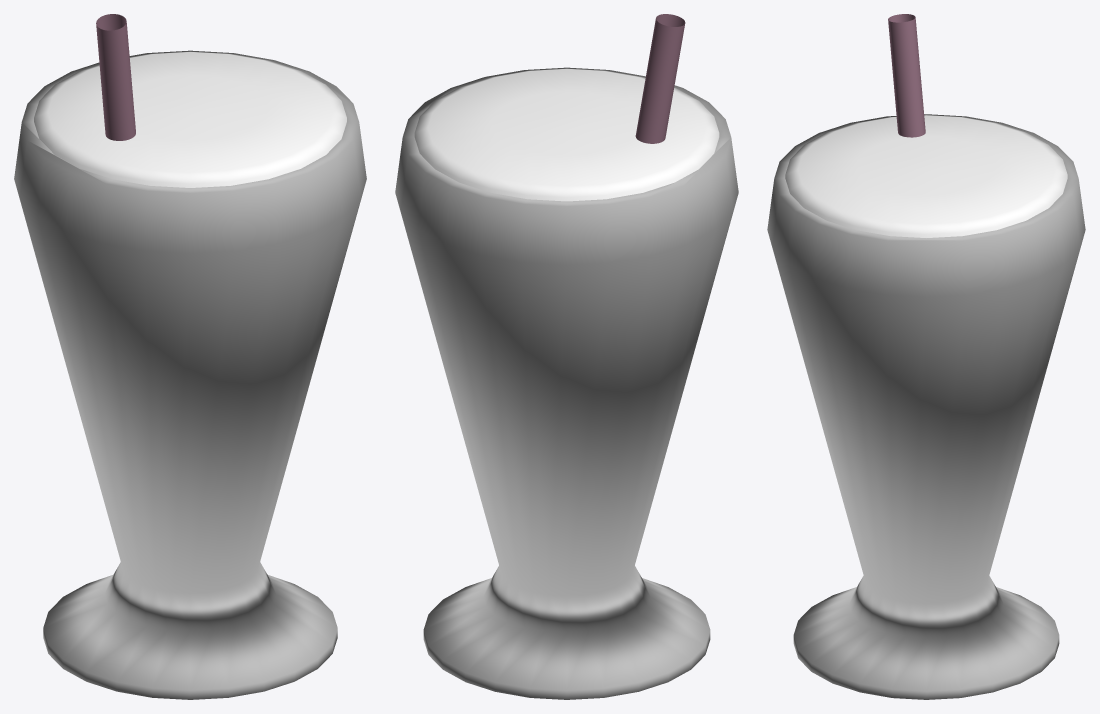
Rendered from milk_shake.fbx.
3 views of the same model, side by side, from view 1: azimuth 30°, elevation 25°; view 2: azimuth 150°, elevation 25°; view 3: azimuth 270°, elevation 25° (orthographic). The views are drawn at different scales.
Parts seen in each view (by area): view 1: milk_shake_glass, milk_shake, milk_shake_straw; view 2: milk_shake_glass, milk_shake, milk_shake_straw; view 3: milk_shake_glass, milk_shake, milk_shake_straw.
Part boxes in pixels (left/top/right/bottom): milk_shake_glass: left=14, top=50, right=366, bottom=699; milk_shake: left=34, top=51, right=346, bottom=187; milk_shake_straw: left=96, top=14, right=135, bottom=140; milk_shake_glass: left=395, top=67, right=738, bottom=699; milk_shake: left=414, top=68, right=719, bottom=201; milk_shake_straw: left=635, top=14, right=685, bottom=143; milk_shake_glass: left=767, top=114, right=1085, bottom=699; milk_shake: left=785, top=115, right=1067, bottom=237; milk_shake_straw: left=888, top=14, right=925, bottom=137.
Bounding box in the file's own units: 0.2955 × 0.6008 × 0.2955.
